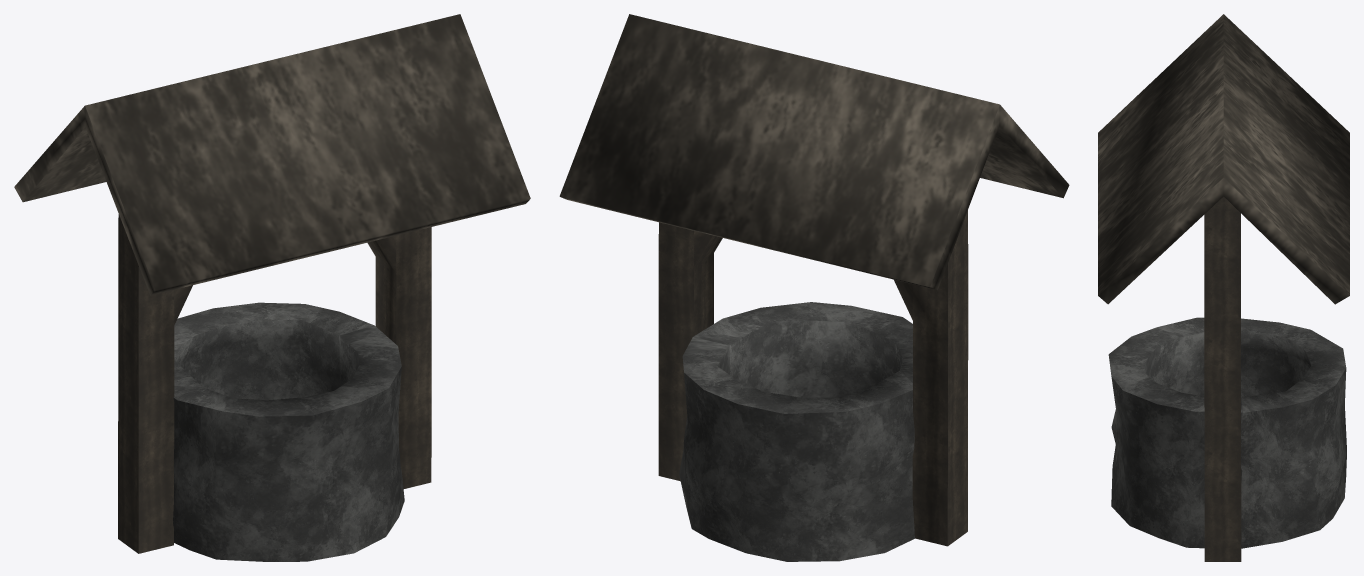
File: studna.glb
3 views of the same model, side by side, from view 1: azimuth 30°, elevation 25°; view 2: azimuth 150°, elevation 25°; view 3: azimuth 270°, elevation 25° (orthographic). The views are drawn at different scales.
Parts seen in each view (by area): view 1: well; view 2: well; view 3: well.
Boxes of the visible parts, x1,y1,x2,y2 form: well: (14,14,530,561); well: (559,14,1069,561); well: (1098,14,1349,561).
Bounding box in the file's own units: 3.35 × 3.87 × 2.18.
Materials: 1 (1 with a texture image).
